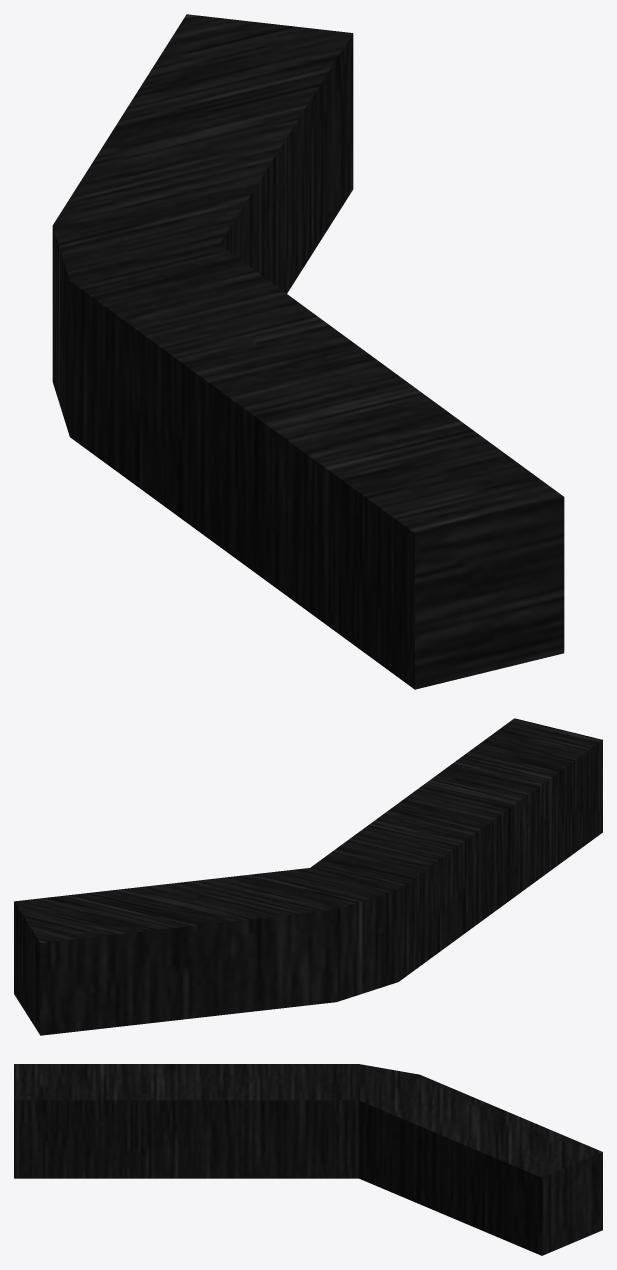
The model's file is LaneRight.obj.
3 views of the same model, one above another, from view 1: azimuth 30°, elevation 25°; view 2: azimuth 150°, elevation 25°; view 3: azimuth 270°, elevation 25° (orthographic). The views are drawn at different scales.
Visible parts, largest first — view 1: pCube1; view 2: pCube1; view 3: pCube1.
Part boxes in pixels (x1=…): pCube1: x1=52, y1=14, x2=564, y2=689; pCube1: x1=14, y1=718, x2=602, y2=1035; pCube1: x1=14, y1=1064, x2=602, y2=1255.
Size of the model in its own units: 1.56 by 0.5 by 3.41.
Materials: 1 (1 with a texture image).
